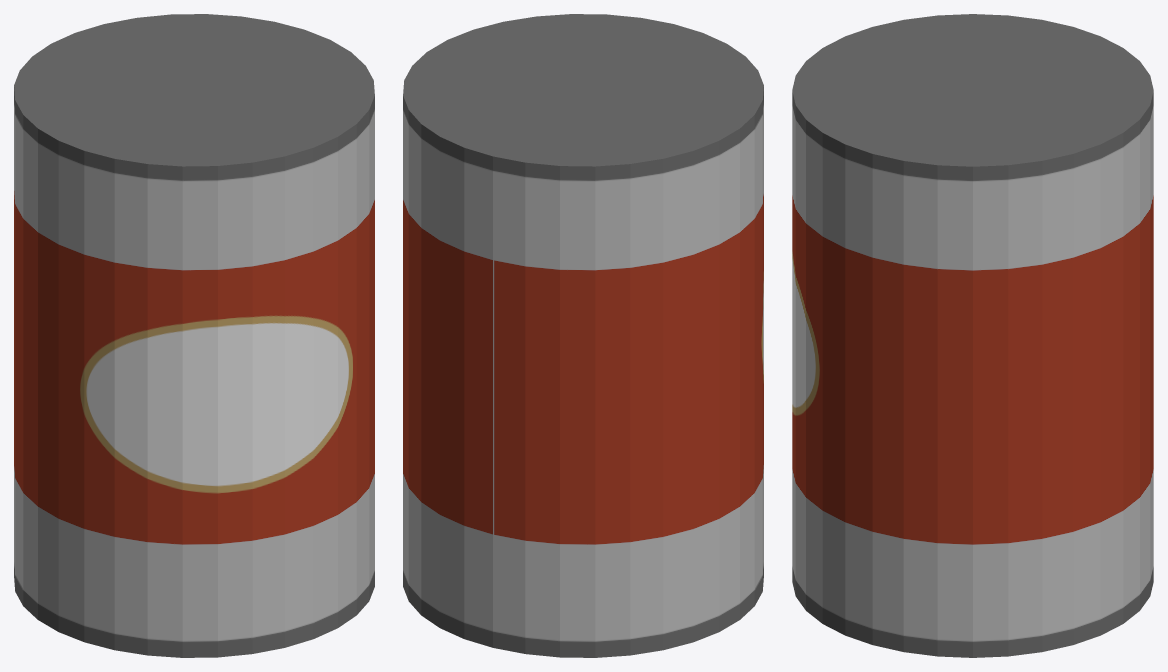
The model's file is can.glb.
The picture shows the model from 3 angles, left to right: view 1: azimuth 30°, elevation 25°; view 2: azimuth 150°, elevation 25°; view 3: azimuth 270°, elevation 25°; orthographic projection.
Parts seen in each view (by area): view 1: Cylinder; view 2: Cylinder; view 3: Cylinder.
Boxes of the visible parts, box(x1,y1,x2,y2) form: Cylinder: box(14, 14, 374, 657); Cylinder: box(403, 14, 763, 657); Cylinder: box(792, 14, 1153, 657).
Size of the model in its own units: 0.0939 by 0.1408 by 0.0939.
Materials: 1 (1 with a texture image).
